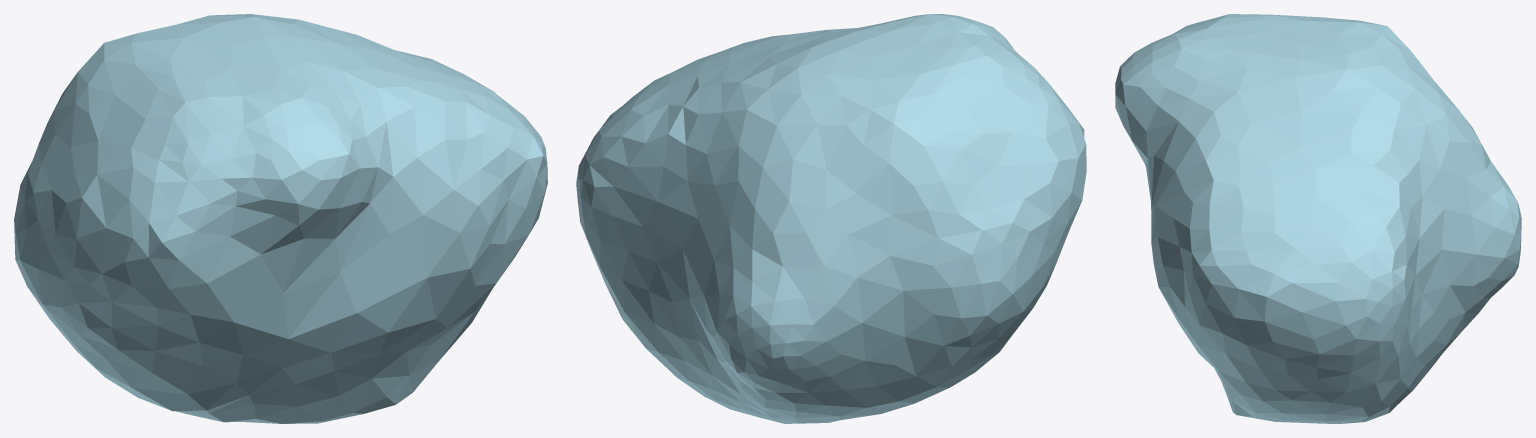
File: livertumor07.obj
3 renders of one model, left to right at view 1: azimuth 30°, elevation 25°; view 2: azimuth 150°, elevation 25°; view 3: azimuth 270°, elevation 25°, orthographic. The views are drawn at different scales.
Visible parts, largest first — view 1: grp1; view 2: grp1; view 3: grp1.
Boxes of the visible parts, x1=… form: grp1: x1=14, y1=14, x2=547, y2=423; grp1: x1=576, y1=14, x2=1086, y2=423; grp1: x1=1115, y1=14, x2=1521, y2=423.
Bounding box in the file's own units: 20.66 × 15.92 × 17.54.
